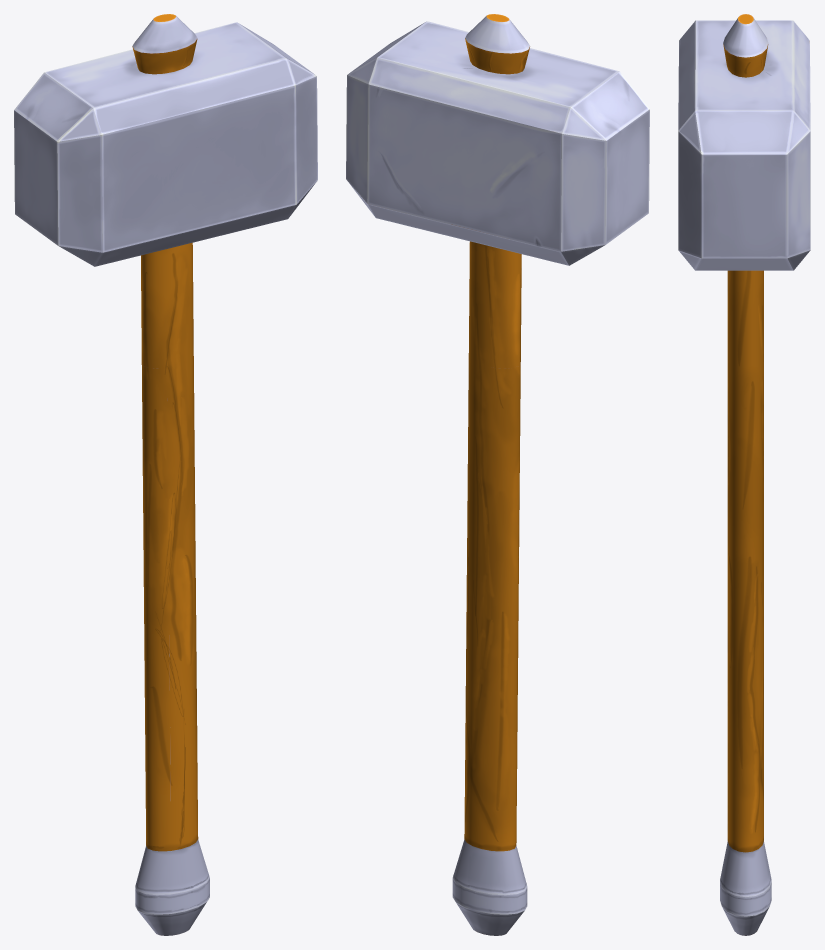
Rendered from Hammer_Unity.fbx.
3 renders of one model, left to right at view 1: azimuth 30°, elevation 25°; view 2: azimuth 150°, elevation 25°; view 3: azimuth 270°, elevation 25°, orthographic.
Visible parts, largest first — view 1: Hammer; view 2: Hammer; view 3: Hammer.
Part boxes in pixels (box(x1,y1,x2,y2)): Hammer: box(14, 14, 317, 935); Hammer: box(346, 14, 649, 935); Hammer: box(678, 14, 810, 935).
Bounding box in the file's own units: 0.2796 × 0.9372 × 0.1244.
